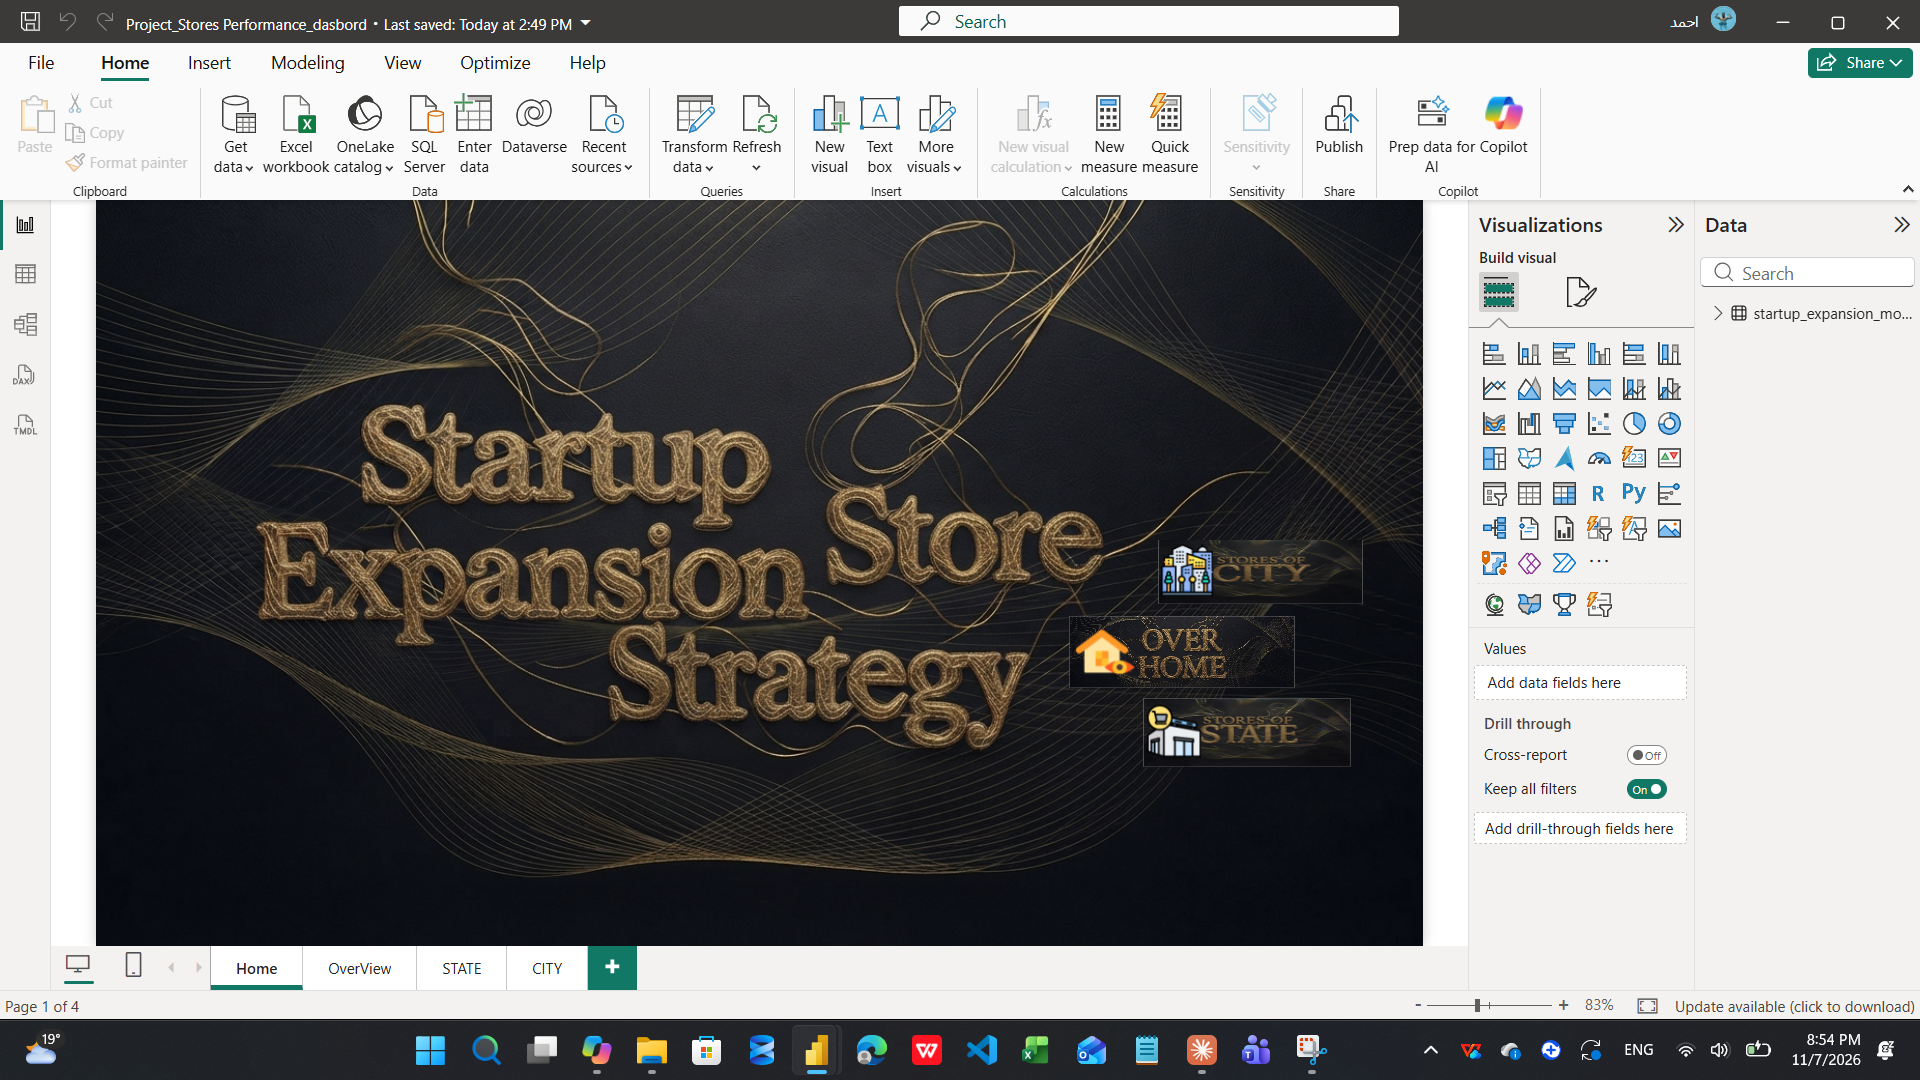

What the dashboard file says about the page in this screenshot:
{"tool":"powerbi","page":{"name":"Home","canvas":[1280,720],"ordinal":0},"visuals":[{"type":"actionButton","box":[940,401.4,217.1,68.6],"z":0},{"type":"actionButton","box":[1025.7,328.6,197.1,61.4],"z":1000},{"type":"actionButton","box":[1010.7,481.3,200,65.3],"z":2000}]}

Visuals, with their boxes on the page's 1280x720 design canvas (x1, y1, x2, y2). These are canvas units, not pixel positions in the 1920x1080 screenshot, which may show the page scaled, cropped or inside an application window:
actionButton: <box>940,401,1157,470</box>
actionButton: <box>1026,329,1223,390</box>
actionButton: <box>1011,481,1211,547</box>
